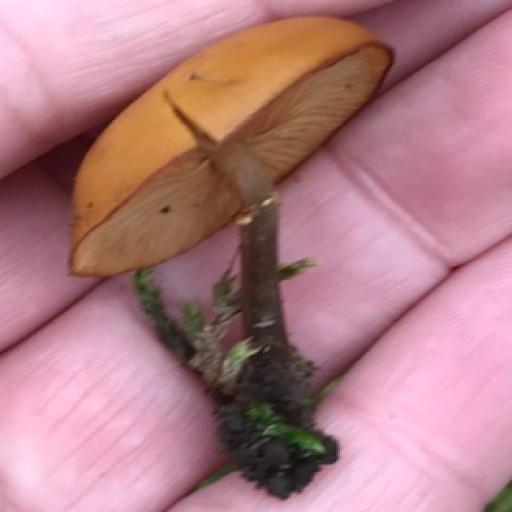Funeral Bell: (53, 13, 397, 494)
